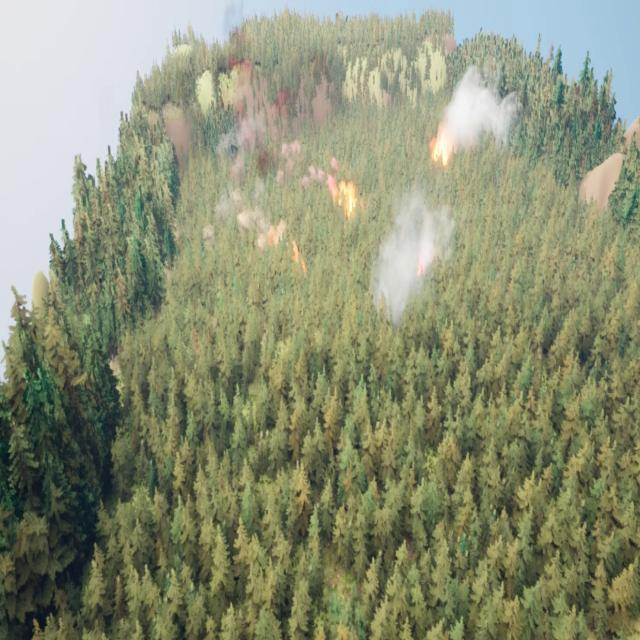fire: (270, 222, 310, 280), (330, 174, 364, 222), (432, 128, 450, 162)
smoke: (370, 193, 452, 320), (446, 66, 524, 154)
